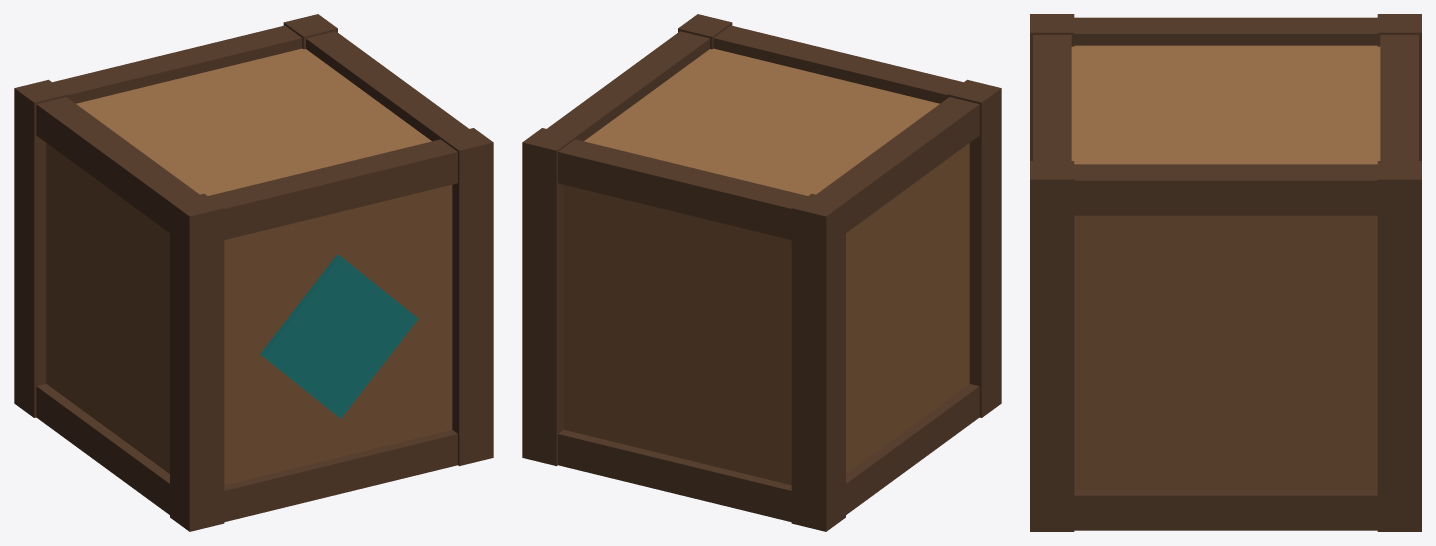
File: prop_crate.glb
3 renders of one model, left to right at view 1: azimuth 30°, elevation 25°; view 2: azimuth 150°, elevation 25°; view 3: azimuth 270°, elevation 25°, orthographic. The views are drawn at different scales.
Visible parts, largest first — view 1: prop_crate; view 2: prop_crate; view 3: prop_crate.
Boxes of the visible parts, <box> form: prop_crate: <box>14,14,493,531</box>; prop_crate: <box>522,14,1001,531</box>; prop_crate: <box>1030,14,1421,531</box>.
Bounding box in the file's own units: 0.3045 × 0.302 × 0.3045.
1 material, 1 textured.
